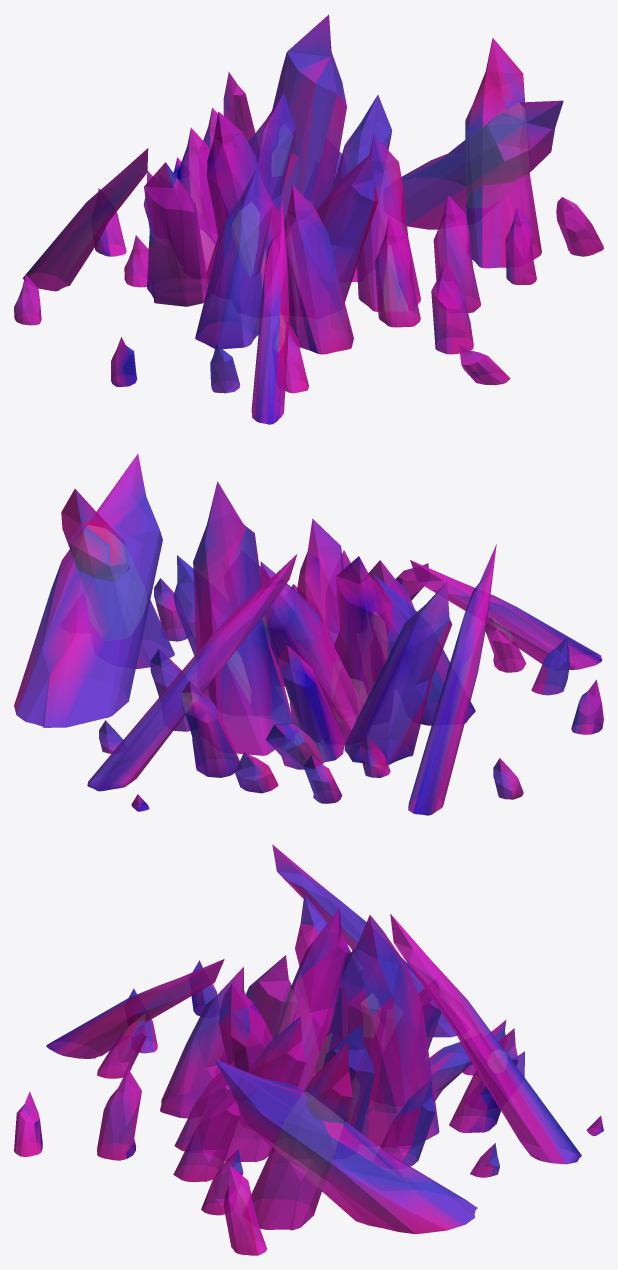
The model's file is crystals.dae.
The picture shows the model from 3 angles, top to bottom: view 1: azimuth 30°, elevation 25°; view 2: azimuth 150°, elevation 25°; view 3: azimuth 270°, elevation 25°; orthographic projection.
Visible parts, largest first — view 1: Icosphere_016; view 2: Icosphere_016; view 3: Icosphere_016.
Part boxes in pixels (<box>): Icosphere_016: <box>14,14,603,424</box>; Icosphere_016: <box>14,454,603,815</box>; Icosphere_016: <box>14,844,603,1255</box>.
Bounding box in the file's own units: 9.15 × 8.97 × 4.01.
